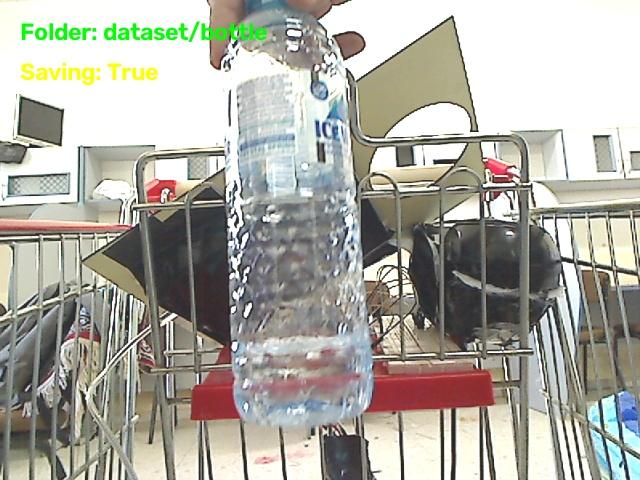Bottle: (223, 0, 372, 426)
